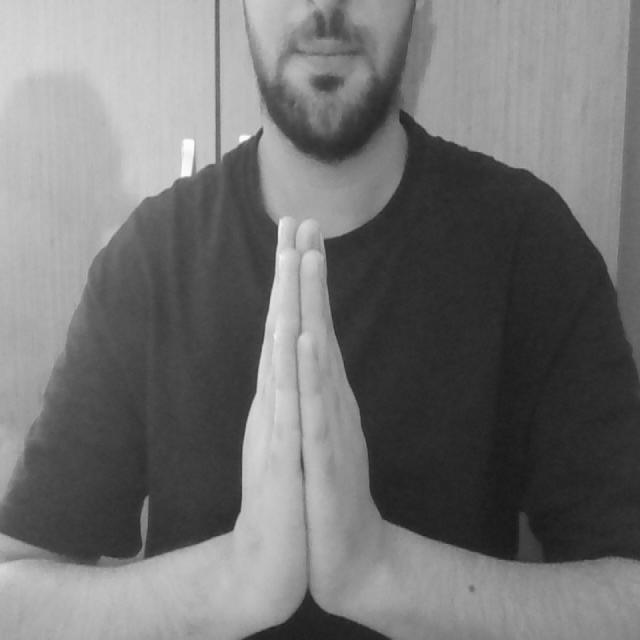Ozur-Dilemek: (225, 194, 382, 640)
